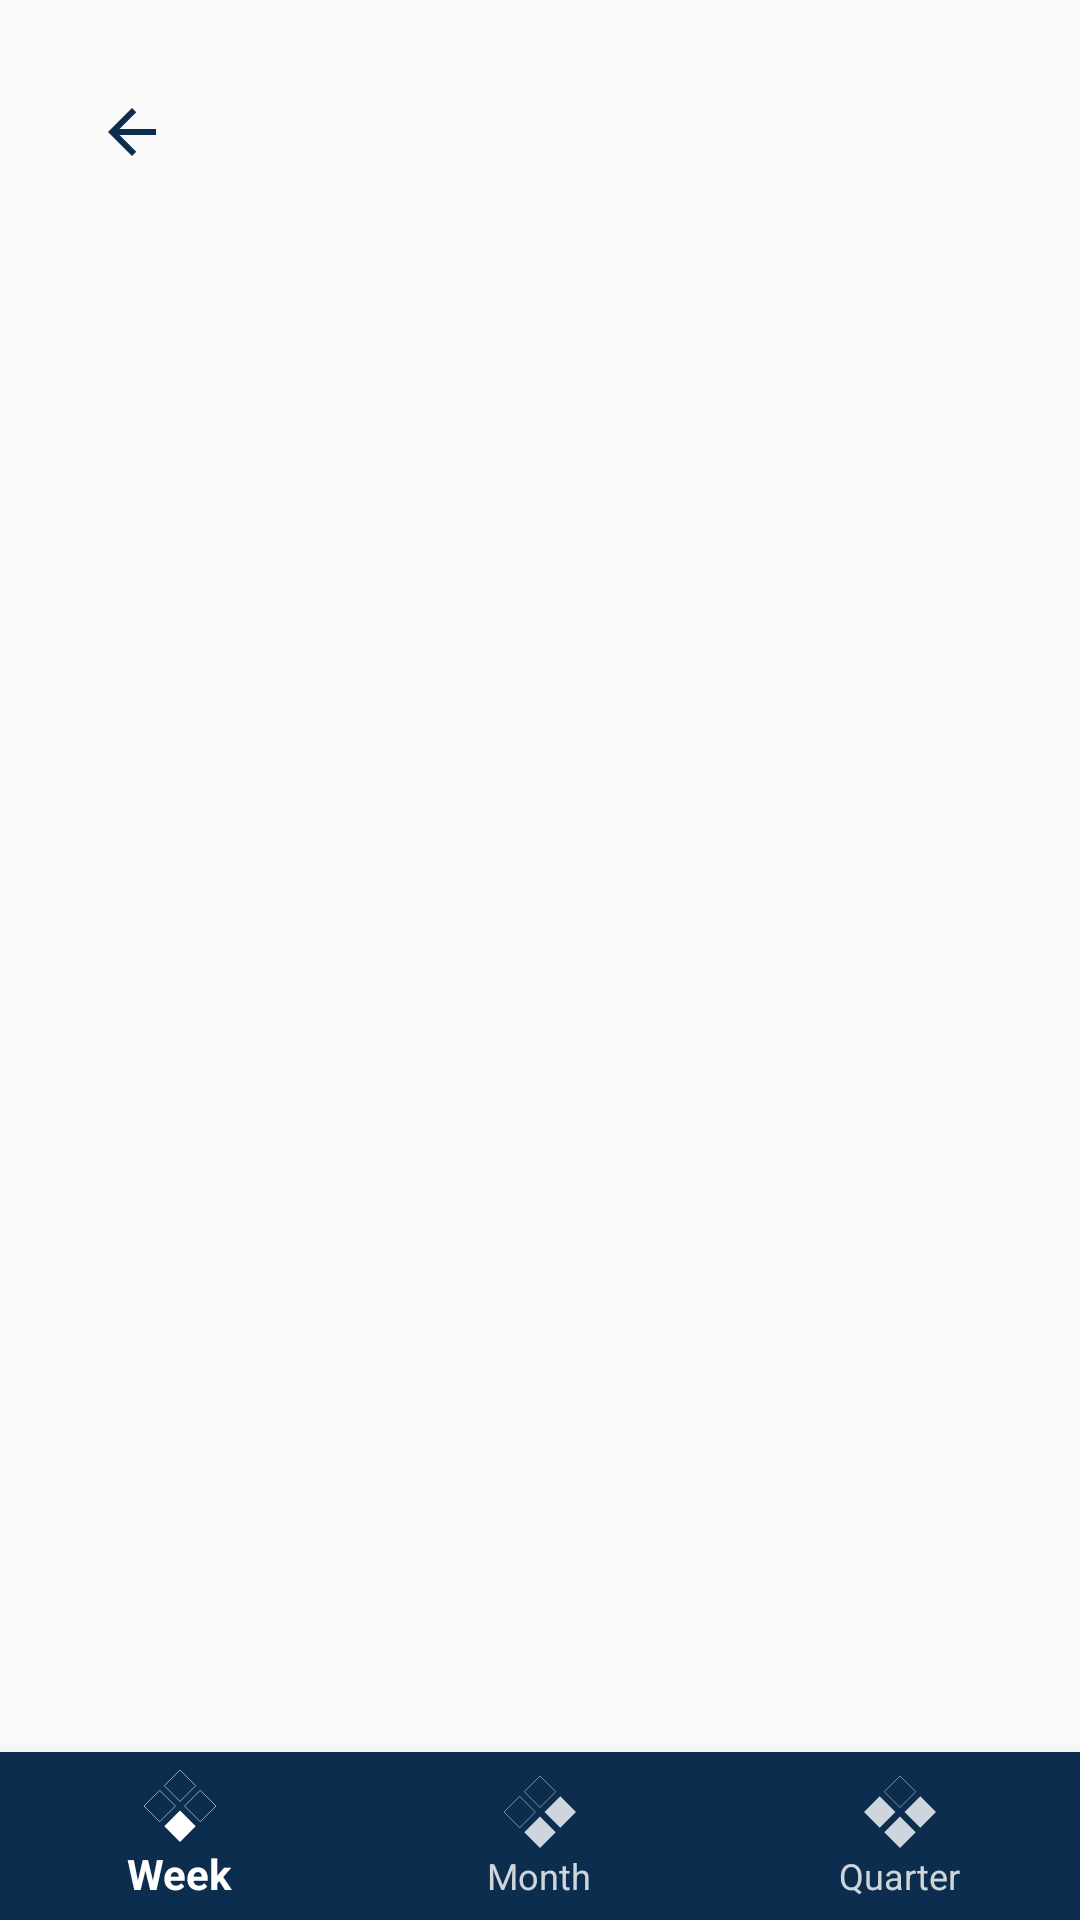

Point at icon controls on the screen. Image size 1080×1920, points as [x,y].
arrow back: [132,132]
